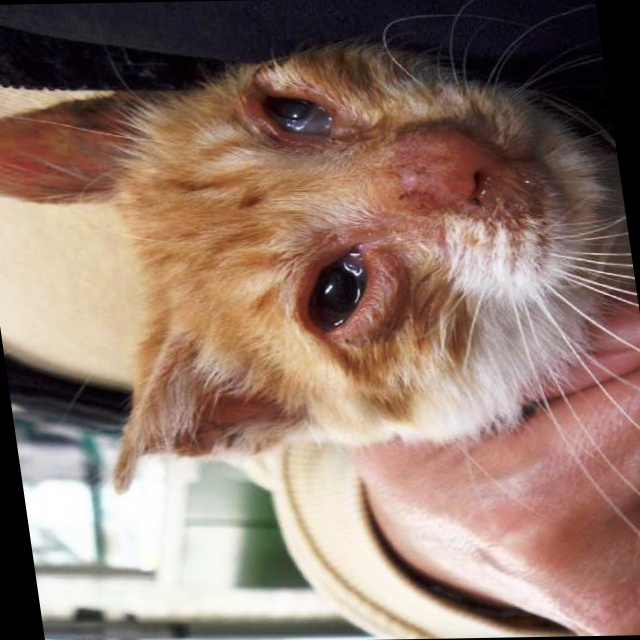eye_infection: (293, 247, 391, 335), (250, 76, 345, 147)
